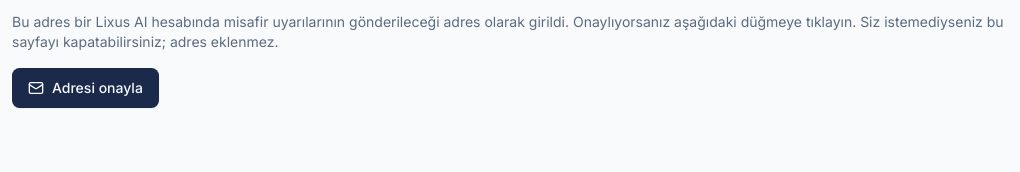
onay sayfası › 🚨 bağlantıyı açmak onay DEĞİL: istek yalnız tıklamayla gider; parça adres çubuğundan silinir
Click the button "Adresi onayla" at (85, 88), box 12,68 -> 159,108
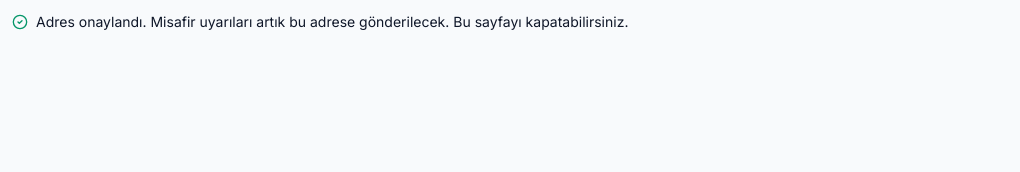
Now the text "Adres onaylandı" is shown, box 36,13 -> 628,30
